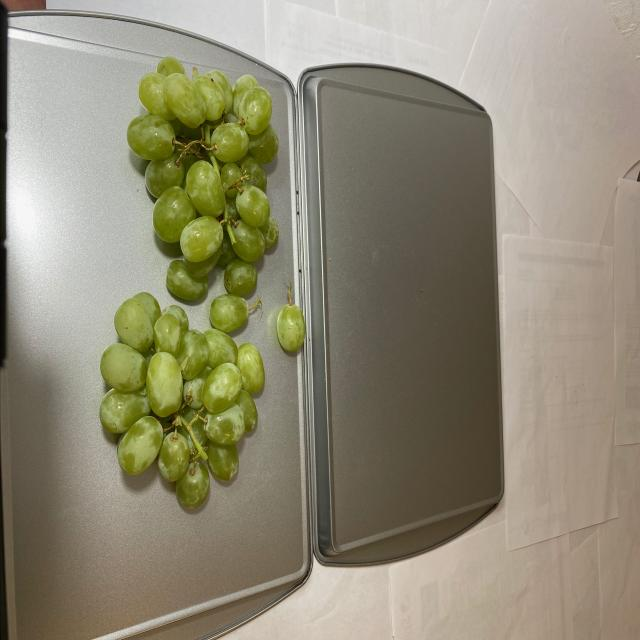Grapes: (94, 59, 301, 514)
